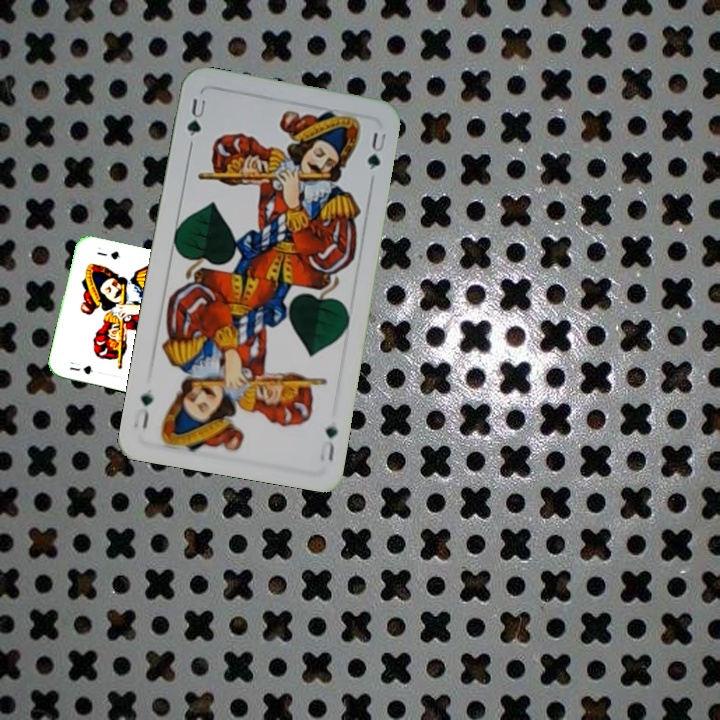GU: (183, 94, 210, 139), (318, 422, 340, 464), (65, 361, 96, 377)
